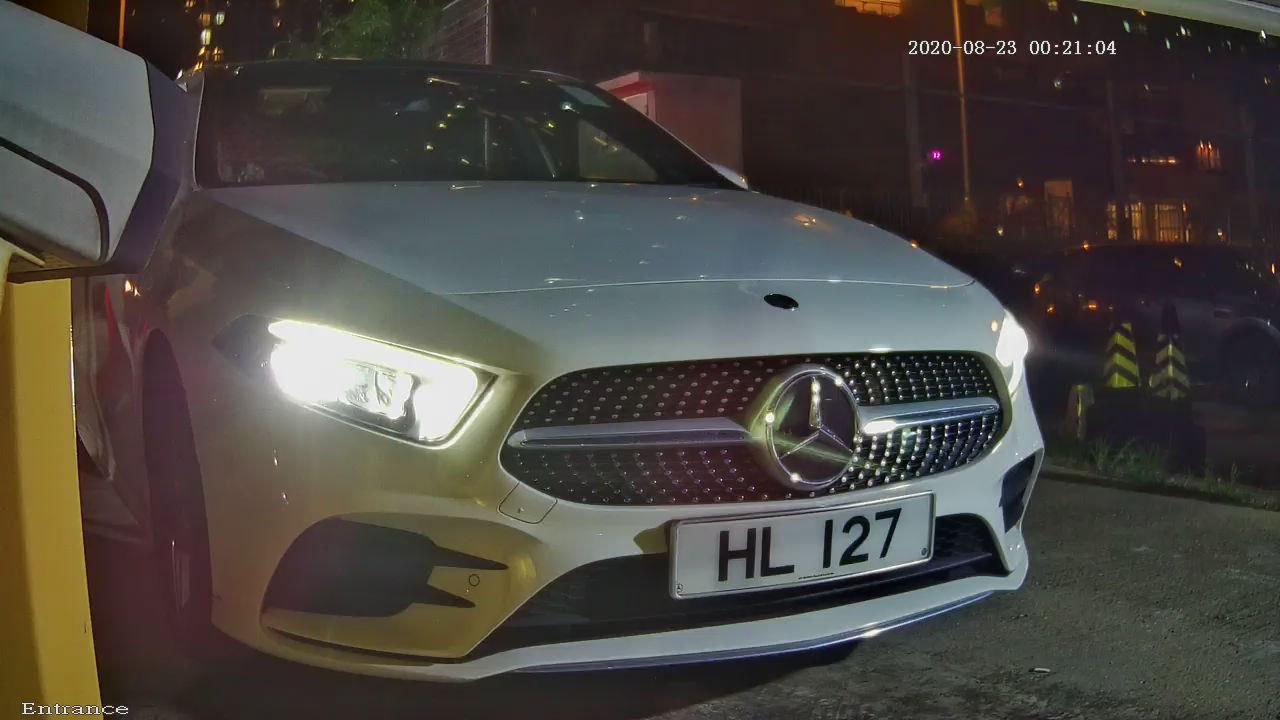Car: (35, 1, 1172, 720)
License Plate: (633, 449, 977, 636)
